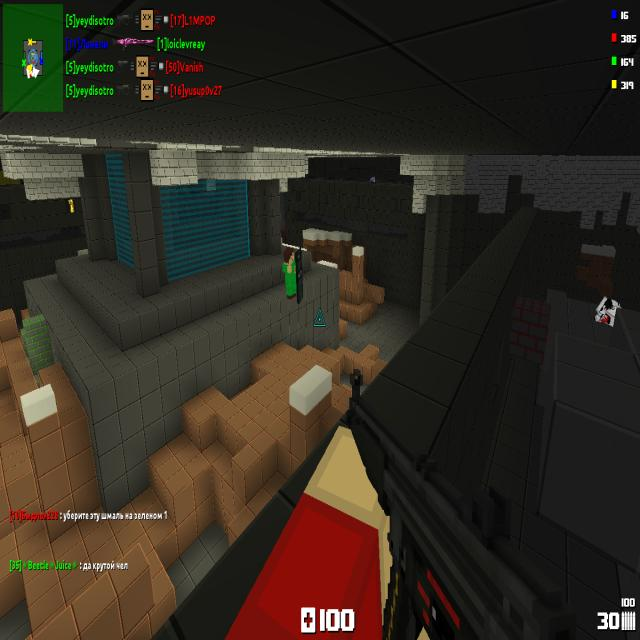enemy: (283, 247, 297, 299), (68, 198, 74, 212), (370, 176, 375, 182)
